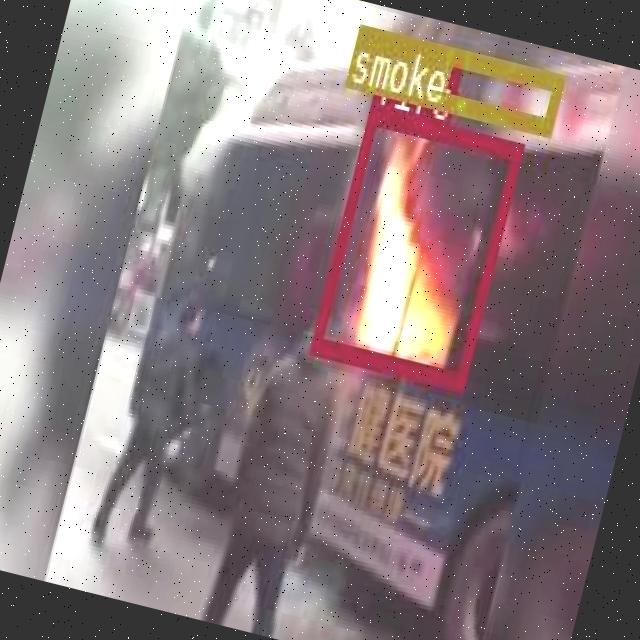fire: (309, 102, 522, 388)
smoke: (343, 20, 563, 134)
